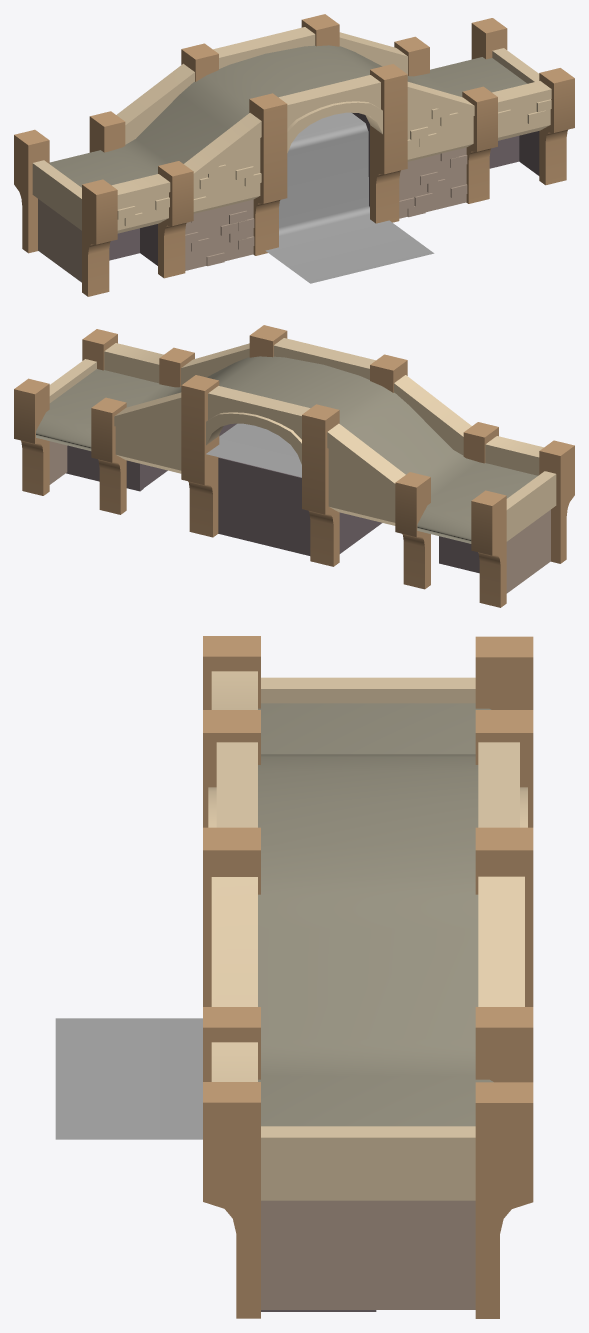
File: Waterfall Bridge.fbx
3 views of the same model, one above another, from view 1: azimuth 30°, elevation 25°; view 2: azimuth 150°, elevation 25°; view 3: azimuth 270°, elevation 25° (orthographic). The views are drawn at different scales.
Visible parts, largest first — view 1: pCube3, pCube1, pCube6, pPlane1, pCube5, pCube19; view 2: pCube3, pCube1, pCube6, pCube19, pCube5, pPlane1; view 3: pCube6, pCube3, pCube1, pCube5, pPlane1.
Part boxes in pixels (<box>): pCube3: <box>14,14,574,296</box>; pCube1: <box>32,27,551,233</box>; pCube6: <box>49,45,527,187</box>; pPlane1: <box>265,112,434,283</box>; pCube5: <box>38,147,467,282</box>; pCube19: <box>109,113,539,265</box>; pCube3: <box>14,325,574,607</box>; pCube1: <box>49,338,556,541</box>; pCube6: <box>36,356,537,543</box>; pCube19: <box>66,423,479,573</box>; pCube5: <box>49,441,550,593</box>; pPlane1: <box>206,423,301,477</box>; pCube6: <box>258,703,493,1126</box>; pCube3: <box>203,636,533,1318</box>; pCube1: <box>208,671,527,1200</box>; pCube5: <box>261,1200,475,1309</box>; pPlane1: <box>55,1018,202,1139</box>.
Bounding box in the file's own units: 27.86 × 8.55 × 12.04.
